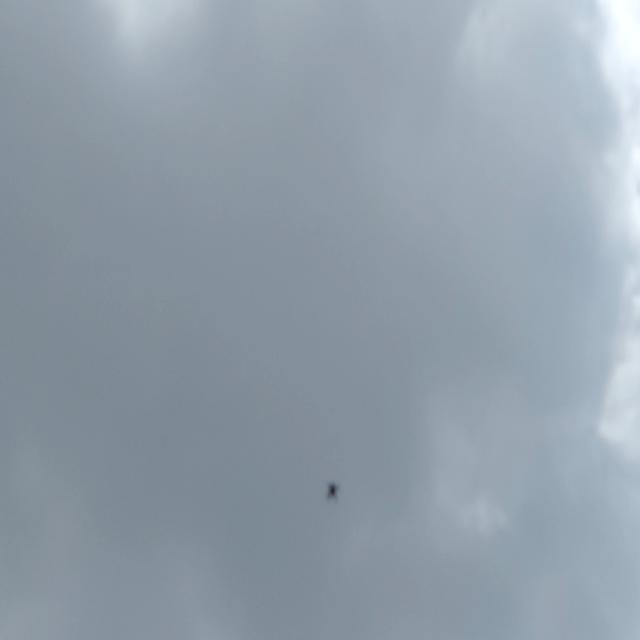drone: (319, 478, 345, 505)
